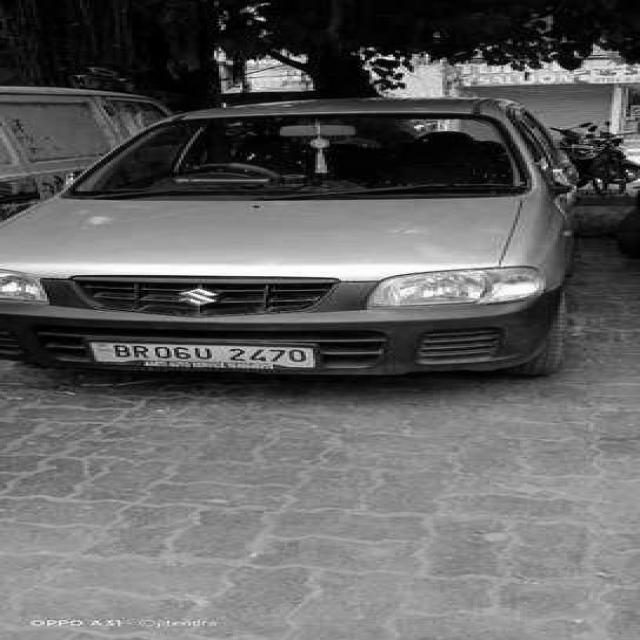car: (0, 99, 607, 400)
license-plate: (94, 336, 325, 376)
